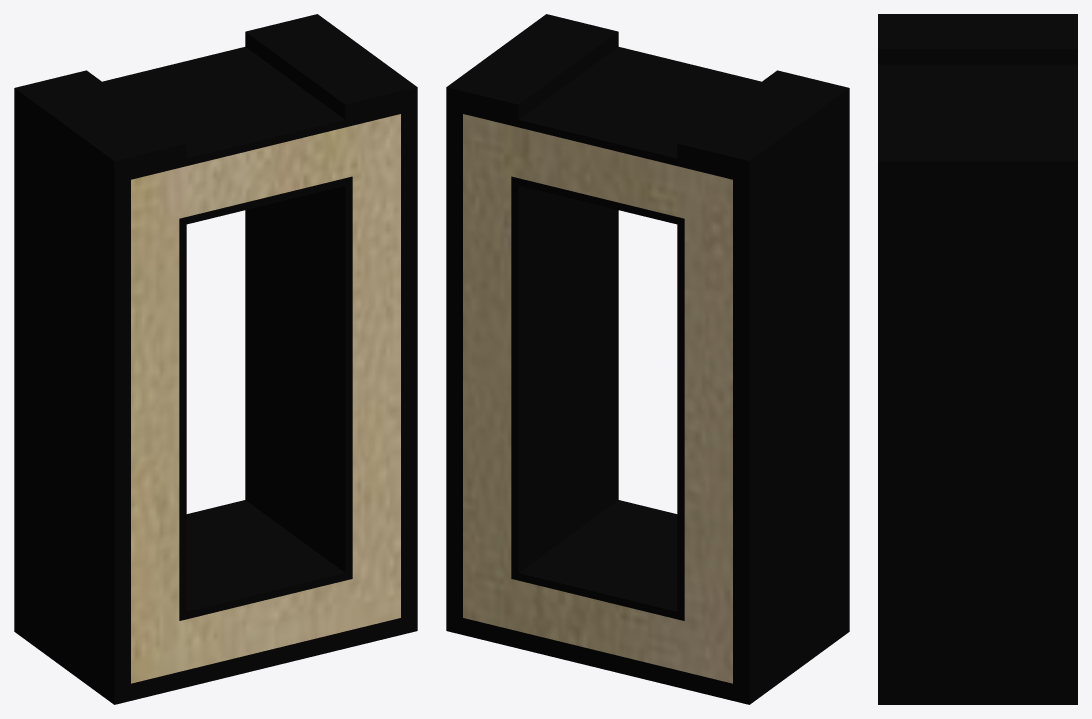
3 renders of one model, left to right at view 1: azimuth 30°, elevation 25°; view 2: azimuth 150°, elevation 25°; view 3: azimuth 270°, elevation 25°, orthographic.
Visible parts, largest first — view 1: E-1; view 2: E-1; view 3: E-1.
Part boxes in pixels (x1=…): E-1: x1=14, y1=14, x2=417, y2=704; E-1: x1=446, y1=14, x2=849, y2=704; E-1: x1=878, y1=14, x2=1077, y2=704.
Size of the model in its own units: 2.1 by 3.6 by 1.2.
2 materials, 1 textured.
